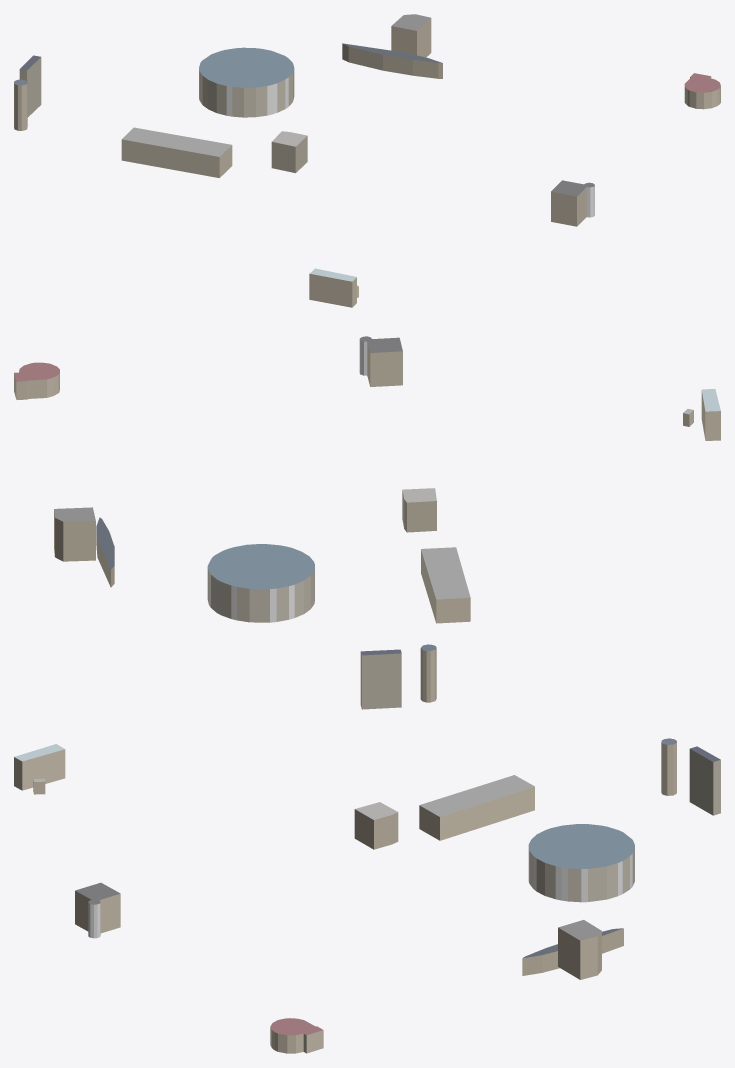
3 renders of one model, top to bottom at view 1: azimuth 30°, elevation 25°; view 2: azimuth 150°, elevation 25°; view 3: azimuth 270°, elevation 25°, orthographic. The views are drawn at different scales.
Parts seen in each view (by area): view 1: tuile; view 2: tuile; view 3: tuile.
Part boxes in pixels (bbox=[...]): tuile: bbox=[14, 14, 720, 307]; tuile: bbox=[14, 336, 720, 709]; tuile: bbox=[14, 738, 720, 1053].
Bounding box in the file's own units: 242 × 23.96 × 247.
